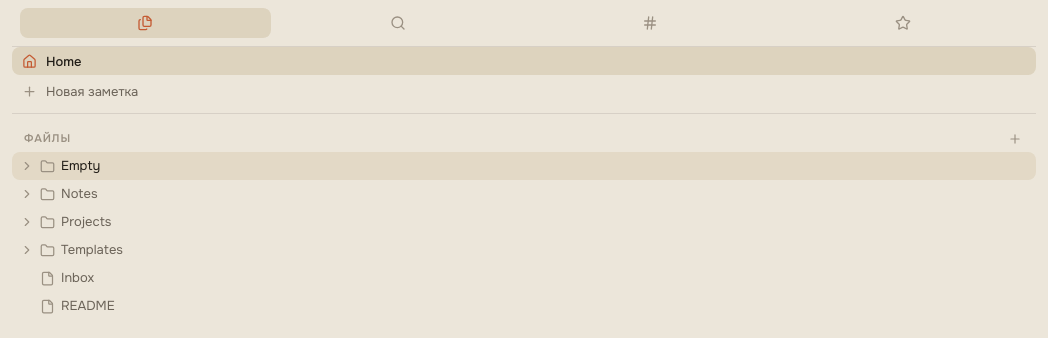
Sidebar (Ф0-7 / DP-2) › поиск по тегу находит заметки
The width and height of the screenshot is (1048, 338).
Click the tab named "Поиск". click: (398, 23)
box: left=272, top=8, right=523, bottom=38
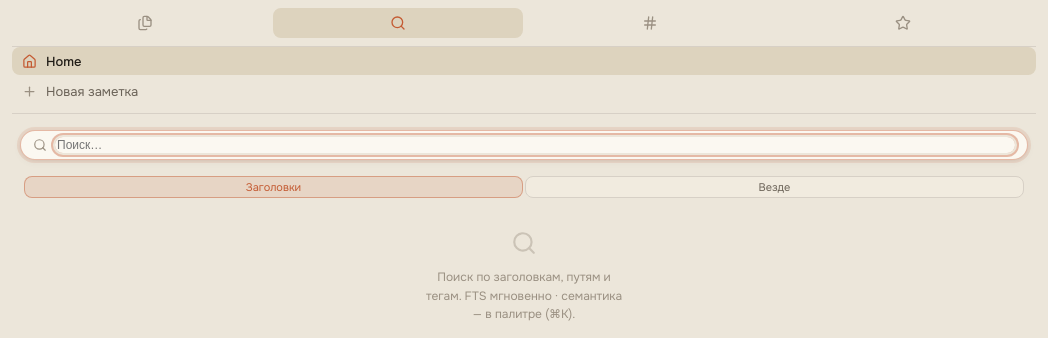
Type "planning" into the field named "Поиск по vault". click: (535, 145)
box: left=55, top=137, right=1015, bottom=153
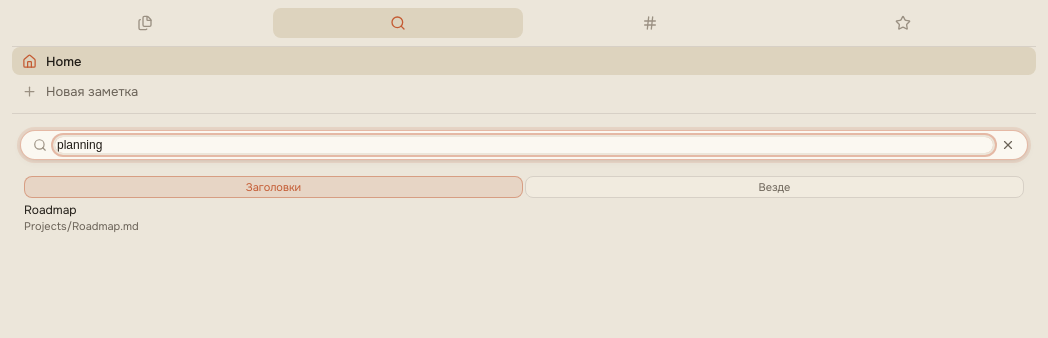
Now the text "Projects/Roadmap.md" is shown, box left=24, top=219, right=139, bottom=233
